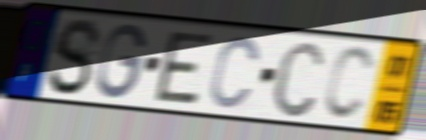C: (269, 38, 328, 121), (321, 44, 377, 124), (207, 33, 263, 112)
E: (153, 29, 216, 107)
G: (94, 21, 149, 102)
S: (44, 15, 104, 99)
